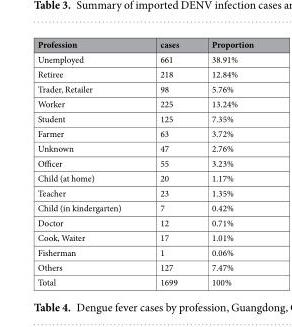table: (36, 37, 253, 287)
table column: (36, 37, 140, 287), (194, 37, 253, 287), (140, 37, 194, 287)
table column header: (36, 37, 253, 51)
table row: (36, 51, 253, 66), (36, 66, 253, 81), (36, 81, 253, 96), (36, 110, 253, 125), (36, 125, 253, 140), (36, 140, 253, 155), (36, 155, 253, 170), (36, 170, 253, 185), (36, 185, 253, 200), (36, 214, 253, 229), (36, 229, 253, 244), (36, 244, 253, 259), (36, 259, 253, 274), (36, 37, 253, 51), (36, 96, 253, 110), (36, 200, 253, 214), (36, 274, 253, 287)
